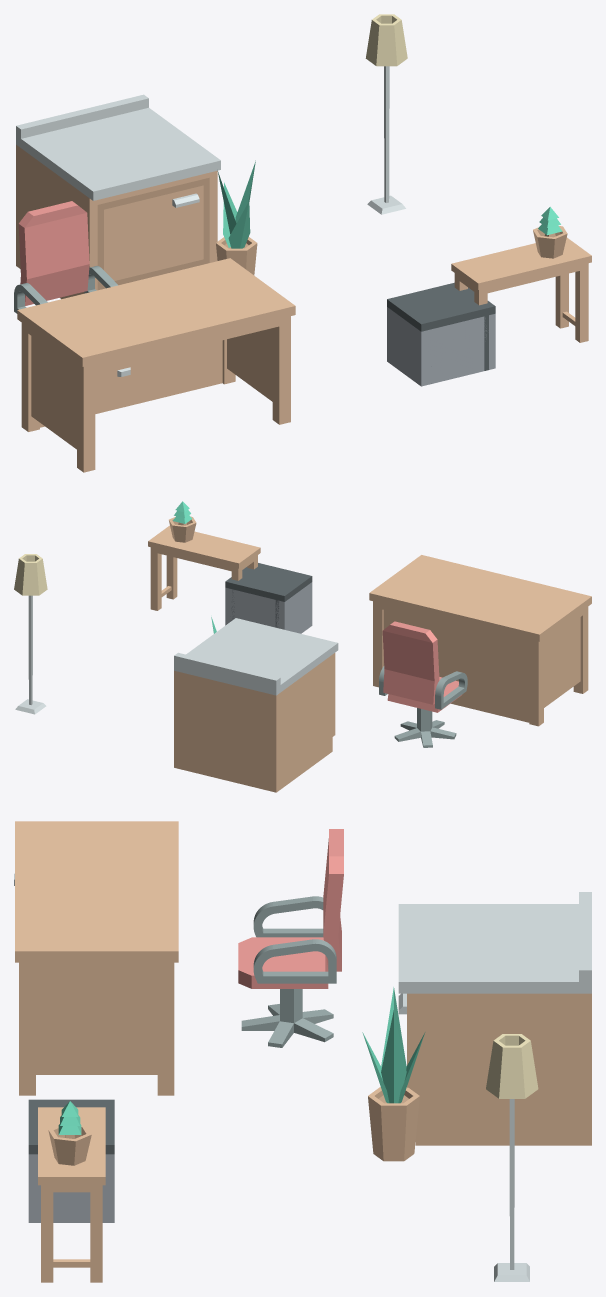
The picture shows the model from 3 angles, top to bottom: view 1: azimuth 30°, elevation 25°; view 2: azimuth 150°, elevation 25°; view 3: azimuth 270°, elevation 25°; orthographic projection. The views are drawn at different scales.
Visible parts, largest first — view 1: desk_blue__desk(Clone), cabinet_blue__kitchenCabinet(Clone), cabinet_blue__door, deskchair_black__chair, sidetable_brown__sideTable(Clone), crate_red__crate_red shell, lamp_white__lampRoundFloor(Clone), crate_red__crate_red lid, plant_pink__plant, flowerpot_green__plantSmall1(Clone), desk_blue__drawer, plant_pink__pottedPlant(Clone); view 2: desk_blue__desk(Clone), cabinet_blue__kitchenCabinet(Clone), deskchair_black__chair, sidetable_brown__sideTable(Clone), crate_red__crate_red shell, crate_red__crate_red lid, lamp_white__lampRoundFloor(Clone), deskchair_black__chairDesk(Clone), flowerpot_green__plantSmall1(Clone); view 3: cabinet_blue__kitchenCabinet(Clone), desk_blue__desk(Clone), deskchair_black__chair, sidetable_brown__sideTable(Clone), lamp_white__lampRoundFloor(Clone), plant_pink__pottedPlant(Clone), crate_red__crate_red shell, deskchair_black__chairDesk(Clone), plant_pink__plant, flowerpot_green__plantSmall1(Clone), crate_red__crate_red lid.
Part boxes in pixels (<box>): desk_blue__desk(Clone): <box>17,258,295,472</box>; cabinet_blue__kitchenCabinet(Clone): <box>16,94,220,299</box>; cabinet_blue__door: <box>97,177,209,290</box>; deskchair_black__chair: <box>14,201,117,313</box>; sidetable_brown__sideTable(Clone): <box>451,237,591,342</box>; crate_red__crate_red shell: <box>387,307,495,386</box>; lamp_white__lampRoundFloor(Clone): <box>365,14,407,214</box>; crate_red__crate_red lid: <box>387,284,495,331</box>; plant_pink__plant: <box>217,160,255,248</box>; flowerpot_green__plantSmall1(Clone): <box>533,207,567,258</box>; desk_blue__drawer: <box>95,357,152,386</box>; plant_pink__pottedPlant(Clone): <box>216,237,257,275</box>; desk_blue__desk(Clone): <box>369,555,591,726</box>; cabinet_blue__kitchenCabinet(Clone): <box>174,618,338,792</box>; deskchair_black__chair: <box>379,621,467,712</box>; sidetable_brown__sideTable(Clone): <box>148,525,260,610</box>; crate_red__crate_red shell: <box>225,582,312,633</box>; crate_red__crate_red lid: <box>225,563,312,601</box>; lamp_white__lampRoundFloor(Clone): <box>14,554,47,714</box>; deskchair_black__chairDesk(Clone): <box>394,708,456,747</box>; flowerpot_green__plantSmall1(Clone): <box>169,501,196,542</box>; cabinet_blue__kitchenCabinet(Clone): <box>398,892,591,1145</box>; desk_blue__desk(Clone): <box>15,821,178,1095</box>; deskchair_black__chair: <box>238,829,343,988</box>; sidetable_brown__sideTable(Clone): <box>38,1107,105,1282</box>; lamp_white__lampRoundFloor(Clone): <box>486,1034,538,1281</box>; plant_pink__pottedPlant(Clone): <box>368,1087,419,1161</box>; crate_red__crate_red shell: <box>28,1154,114,1222</box>; deskchair_black__chairDesk(Clone): <box>241,989,333,1047</box>; plant_pink__plant: <box>362,987,425,1103</box>; flowerpot_green__plantSmall1(Clone): <box>48,1101,91,1165</box>; crate_red__crate_red lid: <box>28,1099,114,1154</box>.
Size of the model in its own units: 3.49 by 1.2 by 2.69.
